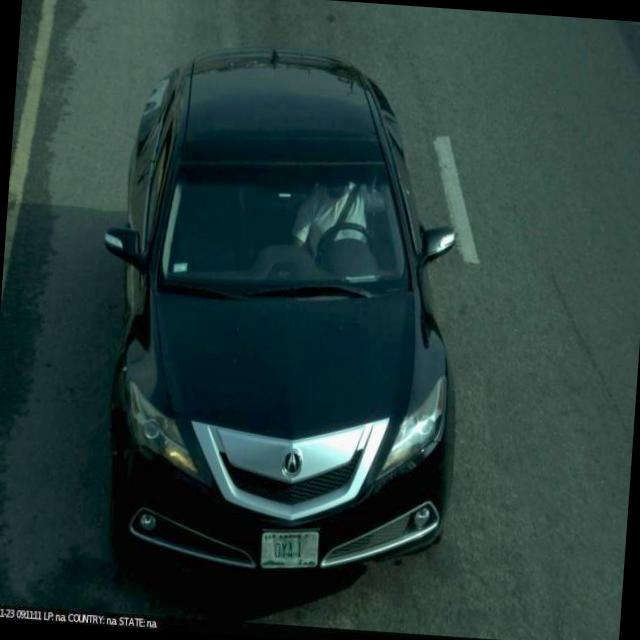person_with_seatbelt: (292, 163, 380, 277)
